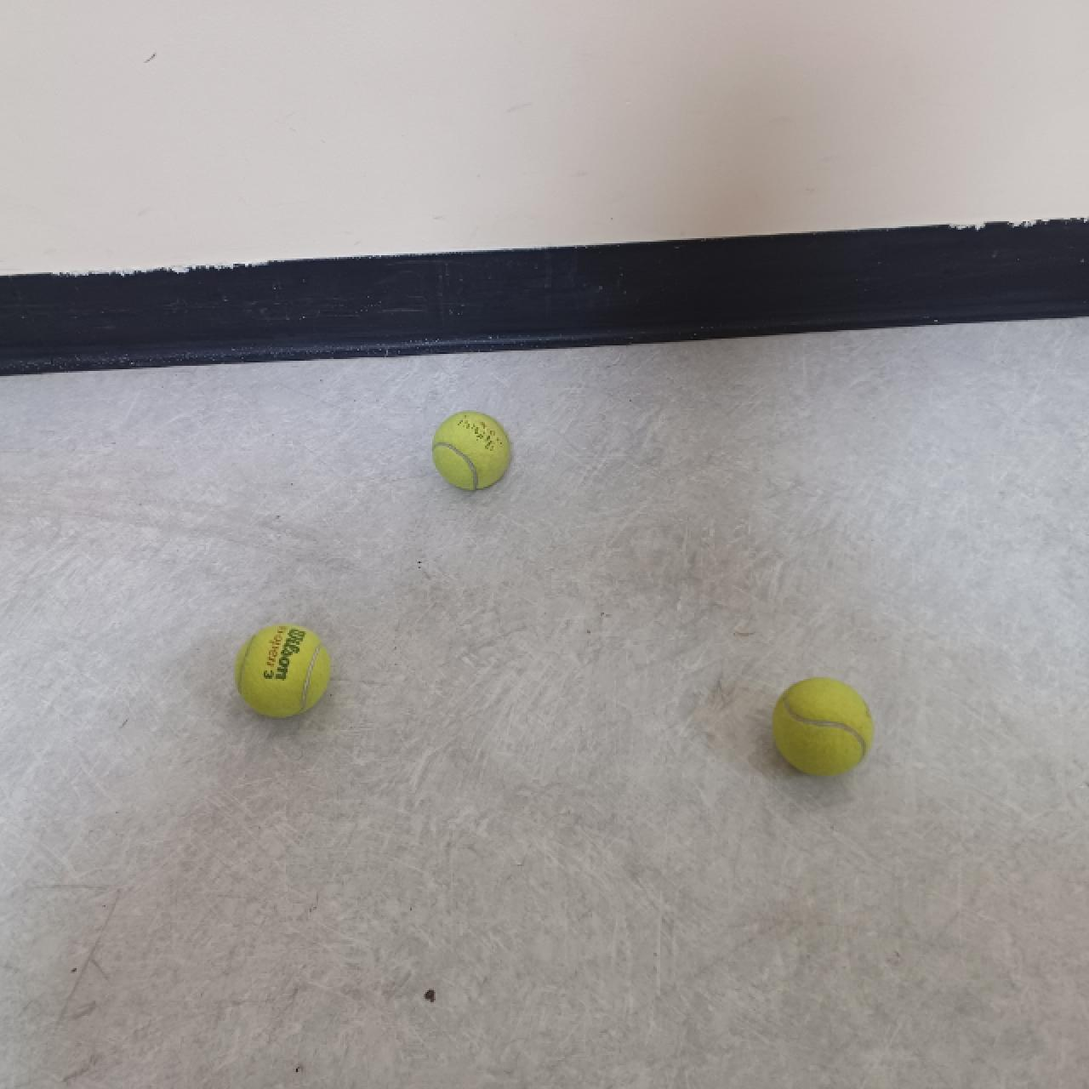tennis-ball: (769, 673, 875, 780), (235, 626, 335, 722), (435, 409, 513, 495)
